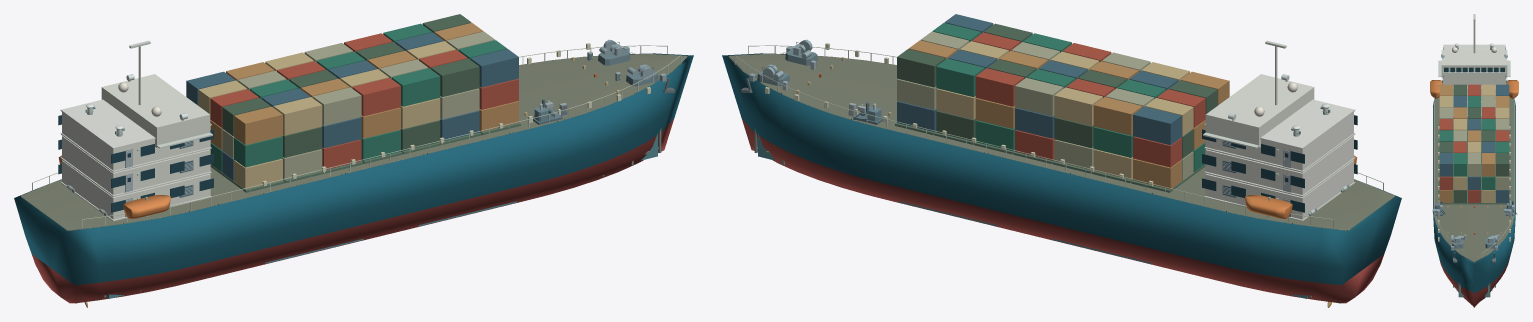
The model's file is yara-birkeland.lod0.glb.
The picture shows the model from 3 angles, left to right: view 1: azimuth 30°, elevation 25°; view 2: azimuth 150°, elevation 25°; view 3: azimuth 270°, elevation 25°; orthographic projection. The views are drawn at different scales.
Visible parts, largest first — view 1: yara-birkeland.structure.hull.outer-hull-shell.1, yara-birkeland.structure.decks.main-strength-deck.1, yara-birkeland.structure.hull.antifouling-underwater-shell.1, yara-birkeland.navigation.bridge.wheelhouse.1, yara-birkeland.accommodation.superstructure.deck-2-enclosure, yara-birkeland.accommodation.superstructure.deck-1-enclosure, yara-birkeland.accommodation.superstructure.superstructure-w, yara-birkeland.accommodation.superstructure.deck-3-enclosure, yara-birkeland.cargo.container-stacks.bay-4-row-5-tier-3.1, yara-birkeland.cargo.container-stacks.bay-5-row-5-tier-3.1, yara-birkeland.cargo.container-stacks.bay-6-row-5-tier-3.1, yara-birkeland.cargo.container-stacks.bay-8-row-5-tier-3.1 (+46 smaller); view 2: yara-birkeland.structure.hull.outer-hull-shell.1, yara-birkeland.structure.decks.main-strength-deck.1, yara-birkeland.structure.hull.antifouling-underwater-shell.1, yara-birkeland.navigation.bridge.wheelhouse.1, yara-birkeland.accommodation.superstructure.deck-2-enclosure, yara-birkeland.accommodation.superstructure.deck-1-enclosure, yara-birkeland.accommodation.superstructure.superstructure-w, yara-birkeland.accommodation.superstructure.deck-3-enclosure, yara-birkeland.cargo.container-stacks.bay-4-row-1-tier-3.1, yara-birkeland.cargo.container-stacks.bay-5-row-1-tier-3.1, yara-birkeland.cargo.container-stacks.bay-6-row-1-tier-3.1, yara-birkeland.cargo.container-stacks.bay-8-row-1-tier-3.1 (+46 smaller); view 3: yara-birkeland.structure.decks.main-strength-deck.1, yara-birkeland.structure.hull.outer-hull-shell.1, yara-birkeland.navigation.bridge.wheelhouse.1, yara-birkeland.accommodation.superstructure.deck-3-enclosure, yara-birkeland.structure.hull.antifouling-underwater-shell.1, yara-birkeland.accommodation.superstructure.superstructure-w, yara-birkeland.cargo.container-stacks.bay-10-row-1-tier-3.1, yara-birkeland.cargo.container-stacks.bay-10-row-2-tier-3.1, yara-birkeland.cargo.container-stacks.bay-10-row-4-tier-3.1, yara-birkeland.cargo.container-stacks.bay-10-row-5-tier-3.1, yara-birkeland.cargo.container-stacks.bay-10-row-3-tier-3.1, yara-birkeland.cargo.hatch-covers.cargo-hatch-10.1 (+49 smaller).
Boxes of the visible parts, x1=… form: yara-birkeland.structure.hull.outer-hull-shell.1: x1=14, y1=53, x2=693, y2=285; yara-birkeland.structure.decks.main-strength-deck.1: x1=21, y1=54, x2=687, y2=230; yara-birkeland.structure.hull.antifouling-underwater-shell.1: x1=31, y1=118, x2=674, y2=303; yara-birkeland.navigation.bridge.wheelhouse.1: x1=101, y1=74, x2=210, y2=147; yara-birkeland.accommodation.superstructure.deck-2-enclosure: x1=62, y1=136, x2=210, y2=194; yara-birkeland.accommodation.superstructure.deck-1-enclosure: x1=62, y1=160, x2=210, y2=219; yara-birkeland.accommodation.superstructure.superstructure-w: x1=60, y1=99, x2=211, y2=149; yara-birkeland.accommodation.superstructure.deck-3-enclosure: x1=62, y1=112, x2=210, y2=170; yara-birkeland.cargo.container-stacks.bay-4-row-5-tier-3.1: x1=234, y1=106, x2=282, y2=145; yara-birkeland.cargo.container-stacks.bay-5-row-5-tier-3.1: x1=273, y1=97, x2=322, y2=135; yara-birkeland.cargo.container-stacks.bay-6-row-5-tier-3.1: x1=313, y1=87, x2=361, y2=125; yara-birkeland.cargo.container-stacks.bay-8-row-5-tier-3.1: x1=391, y1=68, x2=440, y2=106; yara-birkeland.structure.hull.outer-hull-shell.1: x1=722, y1=53, x2=1401, y2=285; yara-birkeland.structure.decks.main-strength-deck.1: x1=728, y1=54, x2=1394, y2=230; yara-birkeland.structure.hull.antifouling-underwater-shell.1: x1=741, y1=118, x2=1384, y2=303; yara-birkeland.navigation.bridge.wheelhouse.1: x1=1205, y1=74, x2=1314, y2=147; yara-birkeland.accommodation.superstructure.deck-2-enclosure: x1=1205, y1=136, x2=1353, y2=194; yara-birkeland.accommodation.superstructure.deck-1-enclosure: x1=1205, y1=160, x2=1353, y2=219; yara-birkeland.accommodation.superstructure.superstructure-w: x1=1204, y1=99, x2=1355, y2=149; yara-birkeland.accommodation.superstructure.deck-3-enclosure: x1=1205, y1=112, x2=1353, y2=170; yara-birkeland.cargo.container-stacks.bay-4-row-1-tier-3.1: x1=1133, y1=106, x2=1181, y2=145; yara-birkeland.cargo.container-stacks.bay-5-row-1-tier-3.1: x1=1093, y1=97, x2=1142, y2=135; yara-birkeland.cargo.container-stacks.bay-6-row-1-tier-3.1: x1=1054, y1=87, x2=1102, y2=125; yara-birkeland.cargo.container-stacks.bay-8-row-1-tier-3.1: x1=975, y1=68, x2=1024, y2=106; yara-birkeland.structure.decks.main-strength-deck.1: x1=1433, y1=82, x2=1515, y2=262; yara-birkeland.structure.hull.outer-hull-shell.1: x1=1433, y1=80, x2=1515, y2=292; yara-birkeland.navigation.bridge.wheelhouse.1: x1=1441, y1=50, x2=1507, y2=77; yara-birkeland.accommodation.superstructure.deck-3-enclosure: x1=1444, y1=73, x2=1504, y2=86; yara-birkeland.structure.hull.antifouling-underwater-shell.1: x1=1439, y1=259, x2=1509, y2=307; yara-birkeland.accommodation.superstructure.superstructure-w: x1=1443, y1=44, x2=1505, y2=73; yara-birkeland.cargo.container-stacks.bay-10-row-1-tier-3.1: x1=1496, y1=153, x2=1509, y2=176; yara-birkeland.cargo.container-stacks.bay-10-row-2-tier-3.1: x1=1482, y1=153, x2=1495, y2=176; yara-birkeland.cargo.container-stacks.bay-10-row-4-tier-3.1: x1=1453, y1=153, x2=1466, y2=176; yara-birkeland.cargo.container-stacks.bay-10-row-5-tier-3.1: x1=1439, y1=153, x2=1452, y2=176; yara-birkeland.cargo.container-stacks.bay-10-row-3-tier-3.1: x1=1468, y1=153, x2=1480, y2=176; yara-birkeland.cargo.hatch-covers.cargo-hatch-10.1: x1=1438, y1=192, x2=1510, y2=204.
Size of the model in its own units: 80 by 27.38 by 15.82.
